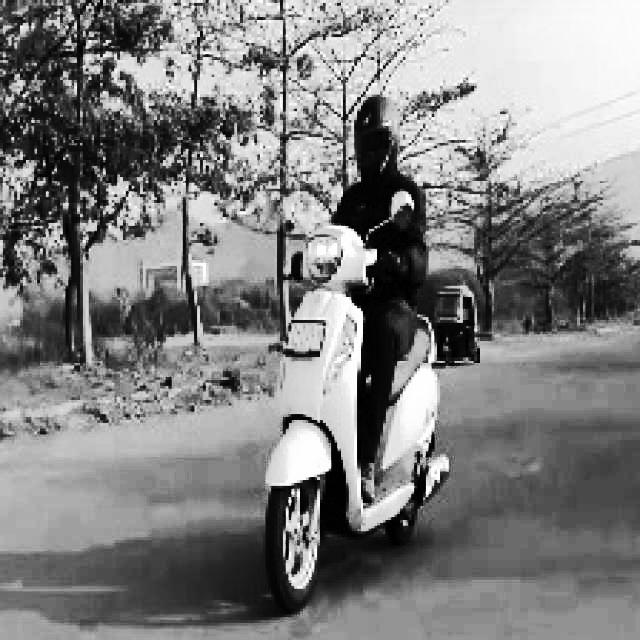Bike: (236, 216, 448, 610)
